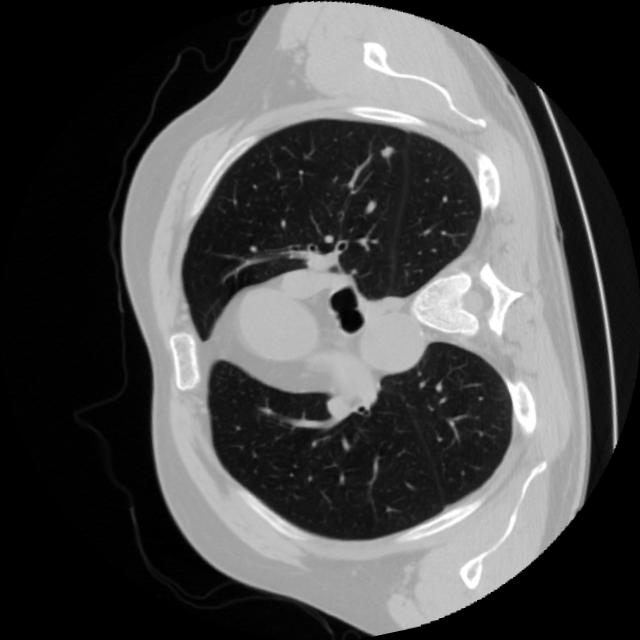nodule: (367, 130, 405, 168)
